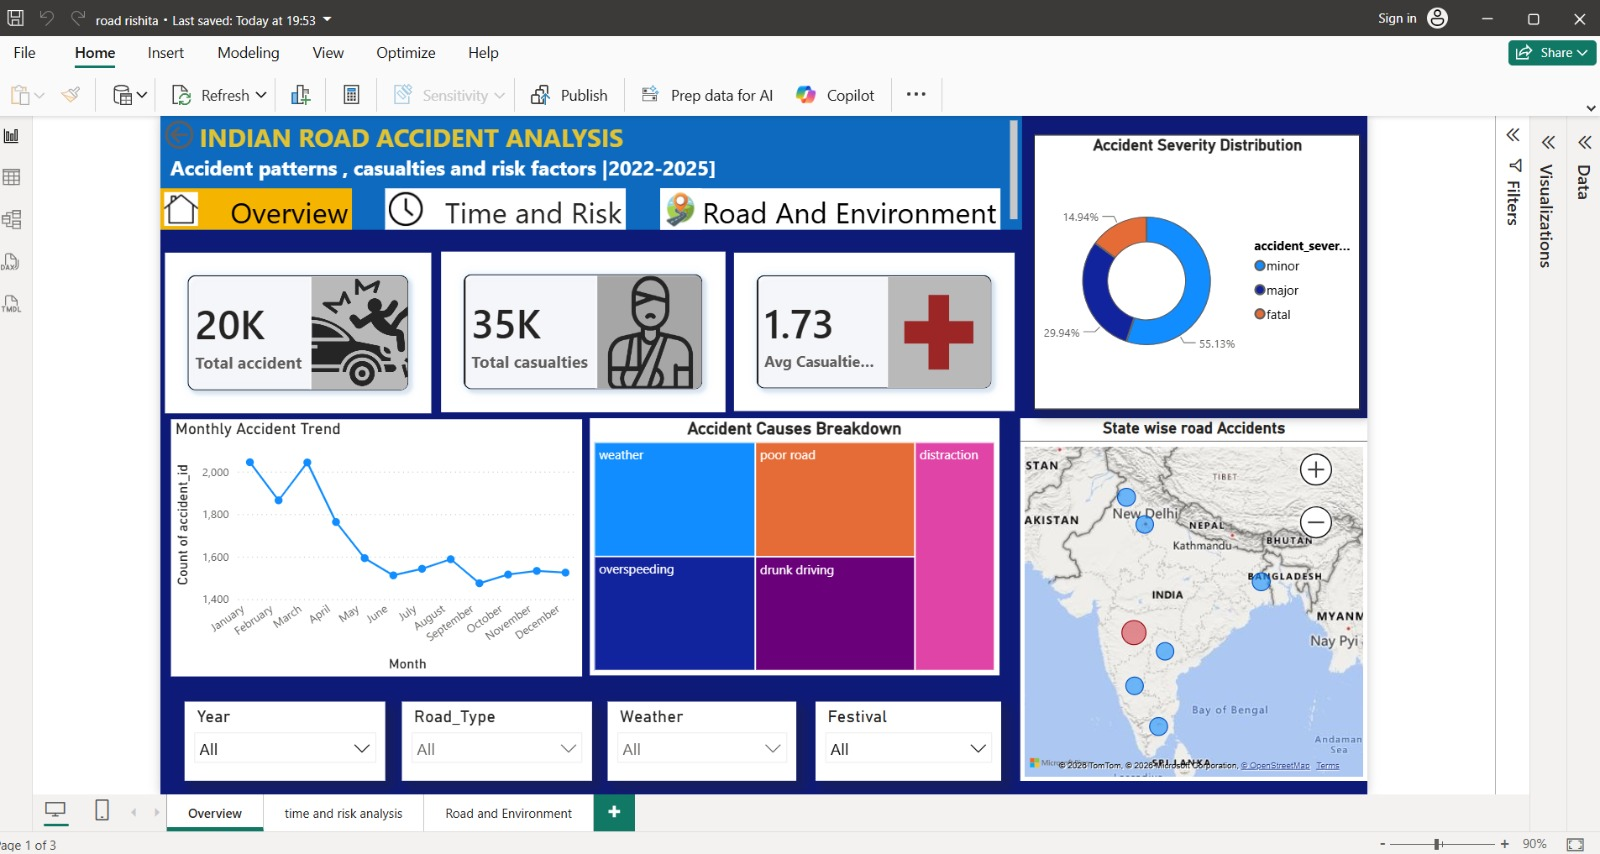

The page's visual inventory and layout, read from the dashboard file:
{"tool":"powerbi","page":{"name":"Overview","canvas":[1280,720],"ordinal":0},"visuals":[{"type":"map","title":"State wise road Accidents","fields":{"Category":["cleaned_indian_roads_dataset.state"],"Size":["CountNonNull(cleaned_indian_roads_dataset.accident_id)"]},"box":[911.2,321.1,368.6,384.3],"z":0},{"type":"donutChart","title":"Accident Severity Distribution","fields":{"Category":["cleaned_indian_roads_dataset.accident_severity"],"Y":["CountNonNull(cleaned_indian_roads_dataset.accident_id)"]},"box":[926.2,20.6,345.7,291.4],"z":1000},{"type":"cardVisual","fields":{"Data":["CountNonNull(cleaned_indian_roads_dataset.accident_id)"]},"box":[0,140.3,292.8,179.2],"z":2000},{"type":"cardVisual","fields":{"Data":["Sum(cleaned_indian_roads_dataset.casualties)"]},"box":[292.8,140.3,310.6,178.1],"z":3000},{"type":"cardVisual","fields":{"Data":["cleaned_indian_roads_dataset.Average Casualties per Accident"]},"box":[604.5,140.3,307.2,178.1],"z":4000},{"type":"slicer","fields":{"Values":["cleaned_indian_roads_dataset.Year"]},"box":[25.7,621.4,212.9,84.3],"z":5000},{"type":"slicer","fields":{"Values":["cleaned_indian_roads_dataset.road_type"]},"box":[255.7,621.4,201.4,84.3],"z":6000},{"type":"slicer","fields":{"Values":["cleaned_indian_roads_dataset.weather"]},"box":[474.3,621.4,200,84.3],"z":7000},{"type":"treemap","title":" Accident Causes Breakdown","fields":{"Group":["cleaned_indian_roads_dataset.cause"],"Values":["Sum(cleaned_indian_roads_dataset.casualties)"]},"box":[455.6,321.1,434.3,272.9],"z":8000},{"type":"lineChart","title":"Monthly Accident Trend","fields":{"Category":["cleaned_indian_roads_dataset.date.Variation.Date Hierarchy.Month"],"Y":["CountNonNull(cleaned_indian_roads_dataset.accident_id)"]},"box":[11.4,321.4,435.7,272.9],"z":9000},{"type":"textbox","box":[0,0,913.9,120.8],"z":10000},{"type":"actionButton","box":[0,0,100,40],"z":11000},{"type":"slicer","fields":{"Values":["cleaned_indian_roads_dataset.festival"]},"box":[694.3,621.4,197.1,84.3],"z":12000},{"type":"actionButton","box":[238.8,76.8,255.2,43.9],"z":13000},{"type":"actionButton","box":[529.7,76.8,360.9,43.9],"z":14000},{"type":"actionButton","box":[0,76.8,203.1,43.9],"z":15000}]}

Visuals, with their boxes on the page's 1280x720 design canvas (x1, y1, x2, y2). These are canvas units, not pixel positions in the 1600x854 screenshot, which may show the page scaled, cropped or inside an application window:
"State wise road Accidents" map: bbox=[911, 321, 1280, 705]
"Accident Severity Distribution" donutChart: bbox=[926, 21, 1272, 312]
cardVisual - CountNonNull(cleaned_indian_roads_dataset.accident_id): bbox=[0, 140, 293, 320]
cardVisual - Sum(cleaned_indian_roads_dataset.casualties): bbox=[293, 140, 603, 318]
cardVisual - cleaned_indian_roads_dataset.Average Casualties per Accident: bbox=[604, 140, 912, 318]
slicer - cleaned_indian_roads_dataset.Year: bbox=[26, 621, 239, 706]
slicer - cleaned_indian_roads_dataset.road_type: bbox=[256, 621, 457, 706]
slicer - cleaned_indian_roads_dataset.weather: bbox=[474, 621, 674, 706]
" Accident Causes Breakdown" treemap: bbox=[456, 321, 890, 594]
"Monthly Accident Trend" lineChart: bbox=[11, 321, 447, 594]
textbox: bbox=[0, 0, 914, 121]
actionButton: bbox=[0, 0, 100, 40]
slicer - cleaned_indian_roads_dataset.festival: bbox=[694, 621, 891, 706]
actionButton: bbox=[239, 77, 494, 121]
actionButton: bbox=[530, 77, 891, 121]
actionButton: bbox=[0, 77, 203, 121]
